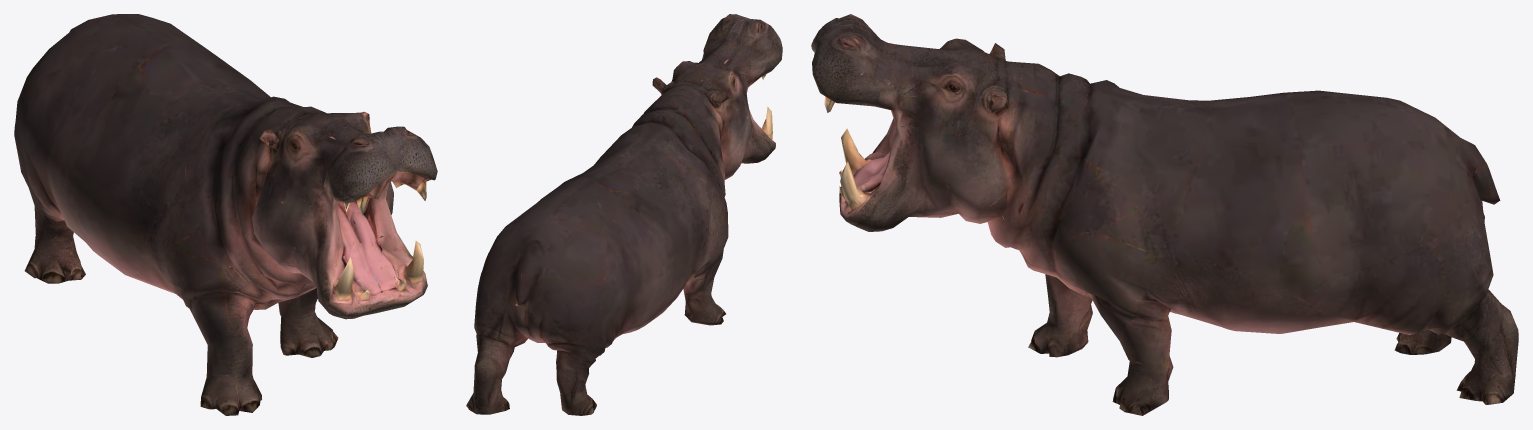
Rendered from hippo.glb.
3 renders of one model, left to right at view 1: azimuth 30°, elevation 25°; view 2: azimuth 150°, elevation 25°; view 3: azimuth 270°, elevation 25°, orthographic. The views are drawn at different scales.
Parts seen in each view (by area): view 1: hippo; view 2: hippo; view 3: hippo.
Part boxes in pixels (x1,y1,x2,y2): hippo: [14, 14, 437, 415]; hippo: [466, 14, 782, 415]; hippo: [811, 14, 1518, 415].
Bounding box in the file's own units: 1.4 × 2.14 × 3.99.
1 material, 1 textured.
